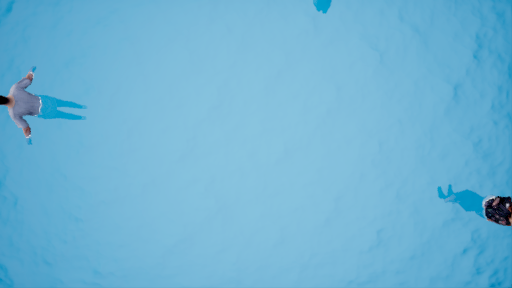person: (1, 60, 88, 135), (439, 180, 512, 229)
